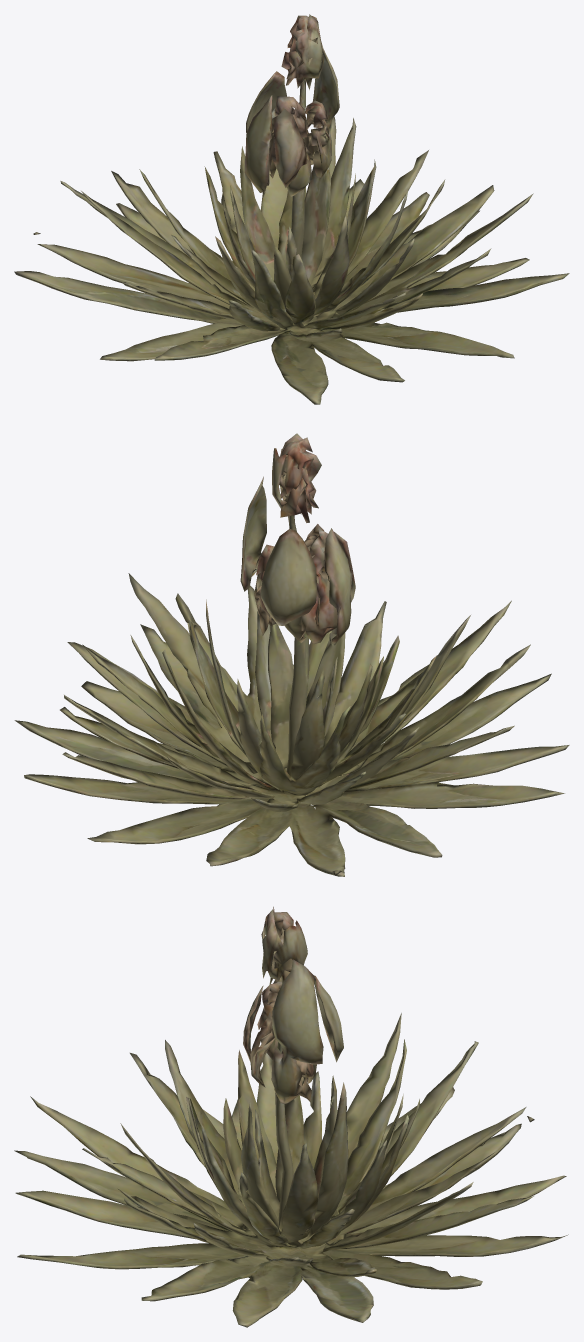
File: yucca.fbx
3 renders of one model, top to bottom at view 1: azimuth 30°, elevation 25°; view 2: azimuth 150°, elevation 25°; view 3: azimuth 270°, elevation 25°, orthographic. The views are drawn at different scales.
Visible parts, largest first — view 1: Mesh1_Mesh1.258; view 2: Mesh1_Mesh1.258; view 3: Mesh1_Mesh1.258.
Part boxes in pixels (<box>): Mesh1_Mesh1.258: <box>14,14,569,404</box>; Mesh1_Mesh1.258: <box>14,433,569,876</box>; Mesh1_Mesh1.258: <box>14,906,568,1327</box>.
Size of the model in its own units: 202 by 140 by 205.
Materials: 1 (1 with a texture image).
